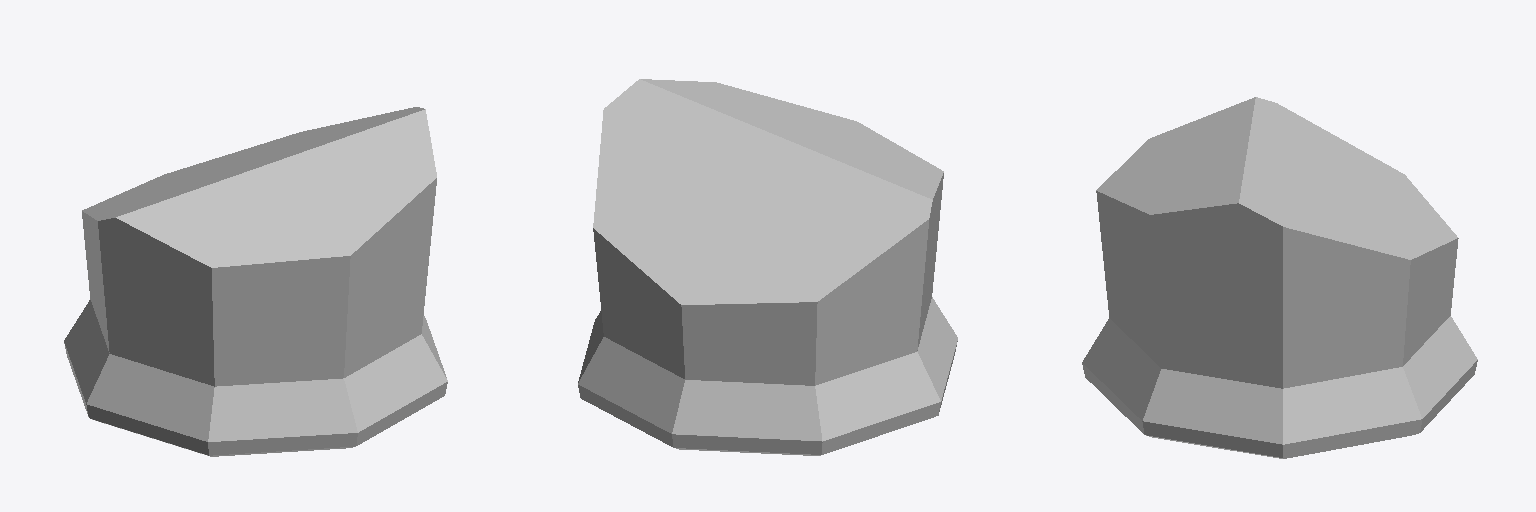
File: vase_1_debris_008.obj
The picture shows the model from 3 angles: view 1: azimuth 30°, elevation 25°; view 2: azimuth 150°, elevation 25°; view 3: azimuth 270°, elevation 25°; orthographic projection.
Visible parts, largest first — view 1: mug_3.005_cell.007_Mesh.008; view 2: mug_3.005_cell.007_Mesh.008; view 3: mug_3.005_cell.007_Mesh.008.
Part boxes in pixels (bbox=[...]): mug_3.005_cell.007_Mesh.008: bbox=[64, 107, 447, 456]; mug_3.005_cell.007_Mesh.008: bbox=[578, 79, 957, 455]; mug_3.005_cell.007_Mesh.008: bbox=[1082, 97, 1477, 458].
Size of the model in its own units: 0.2439 by 0.1707 by 0.2439.